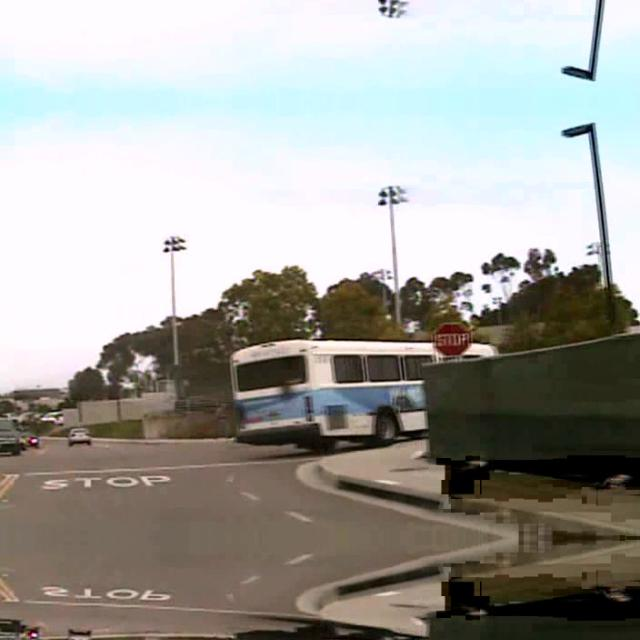stop: (432, 320, 470, 356)
